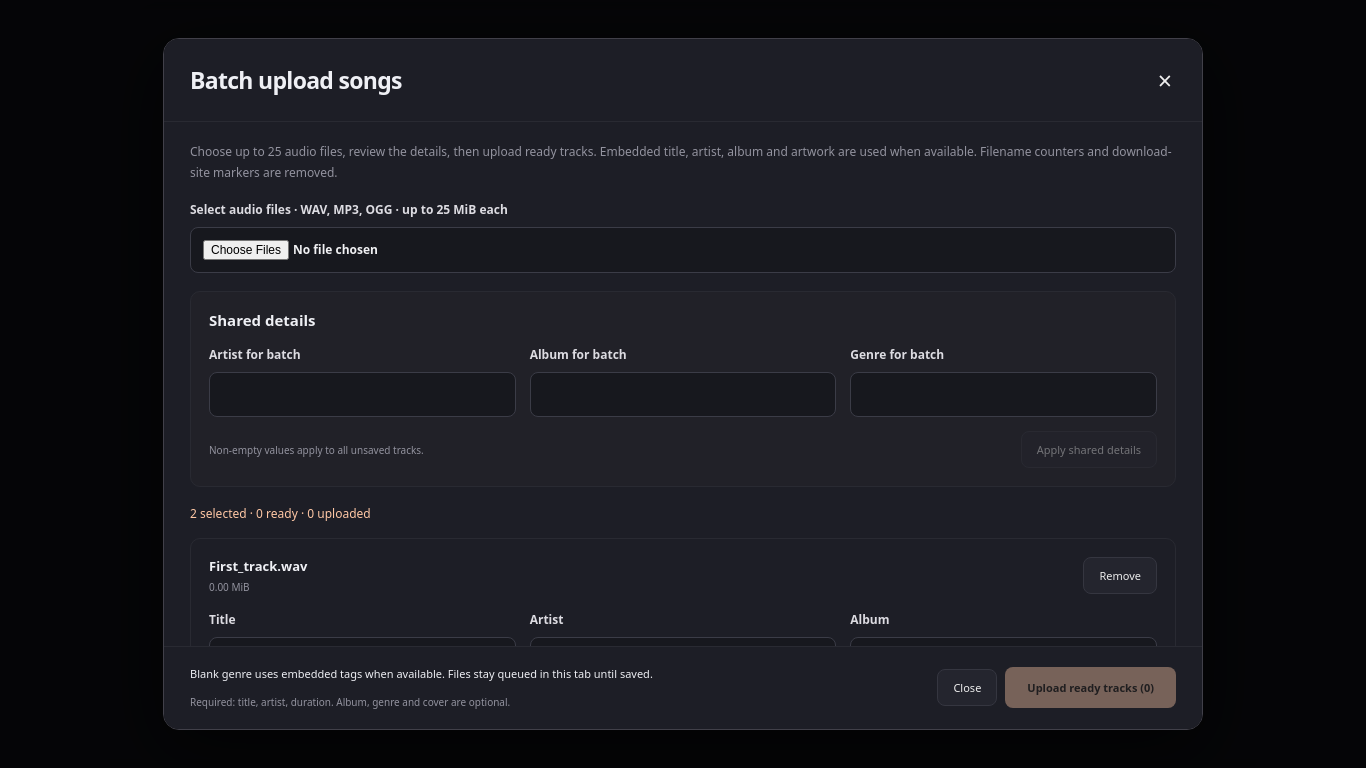
stops a batch after permission denial and blocks closing during an upload
Earlier steps of the test are not shown.
In the field labelled "Artist for batch": (362, 395) [209,372,516,417], type "Batch Artist"
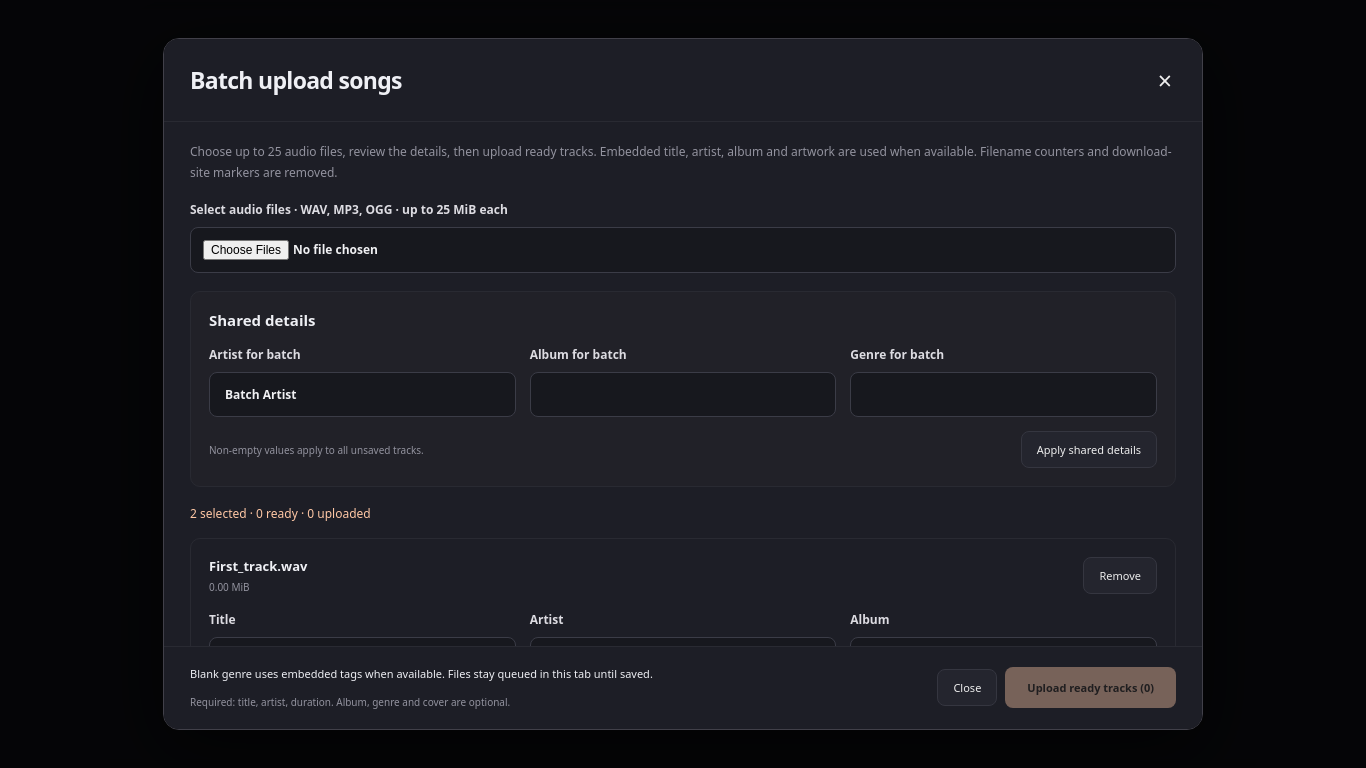
Click the button "Apply shared details": (1089, 450) [1021,431,1157,468]
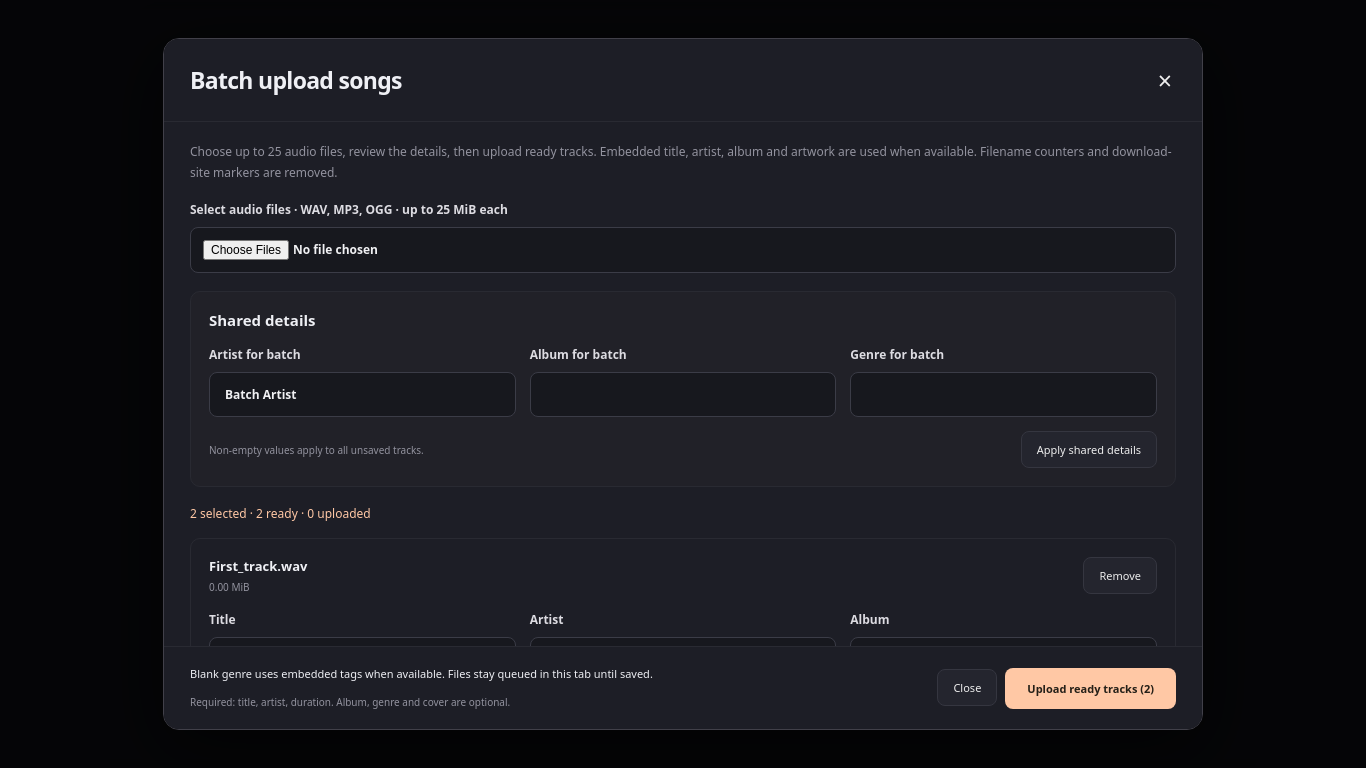
Click the button "Upload ready tracks (2)": (1091, 688) [1005,667,1176,708]
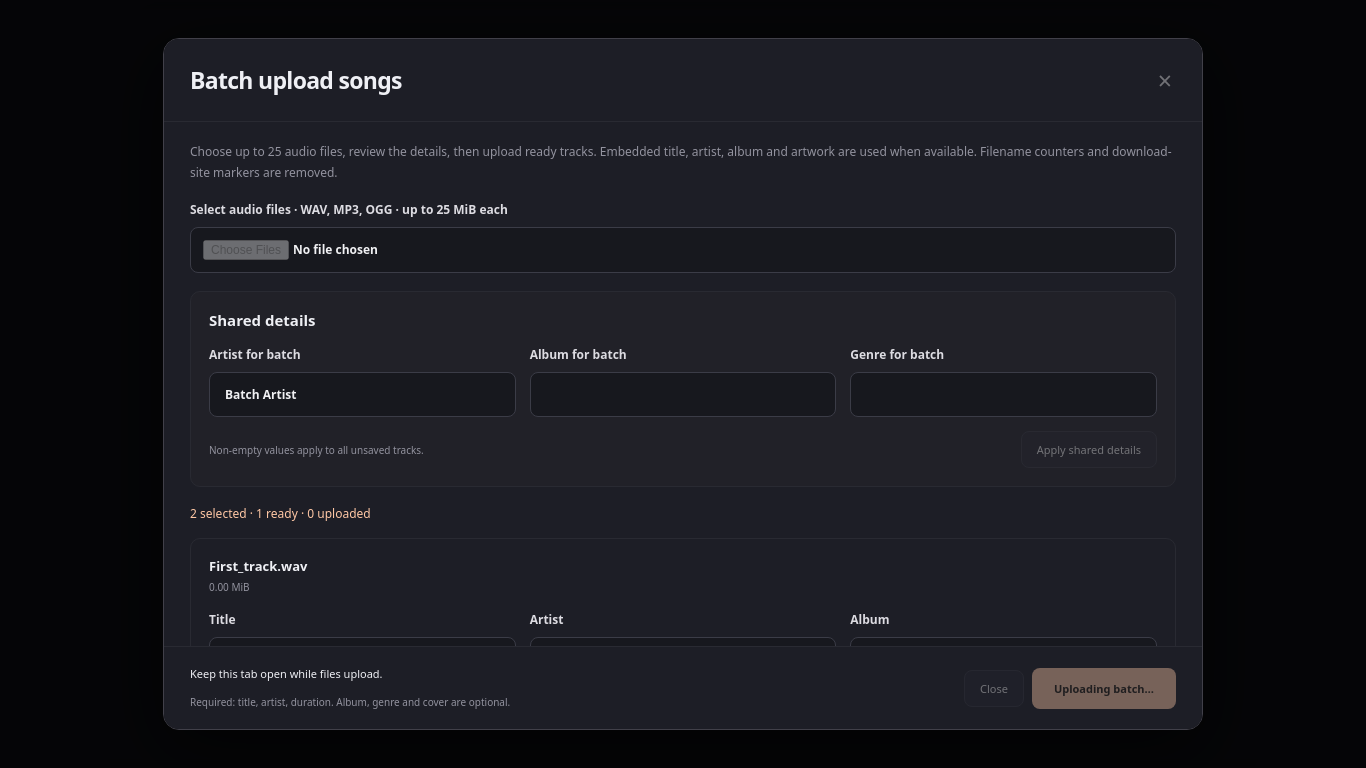
Check: the button named "Close dialog" is disabled, box [1154,59,1176,101]
Click the element that starts with "Batch upload songs": (82, 384) [0,0,1365,767]
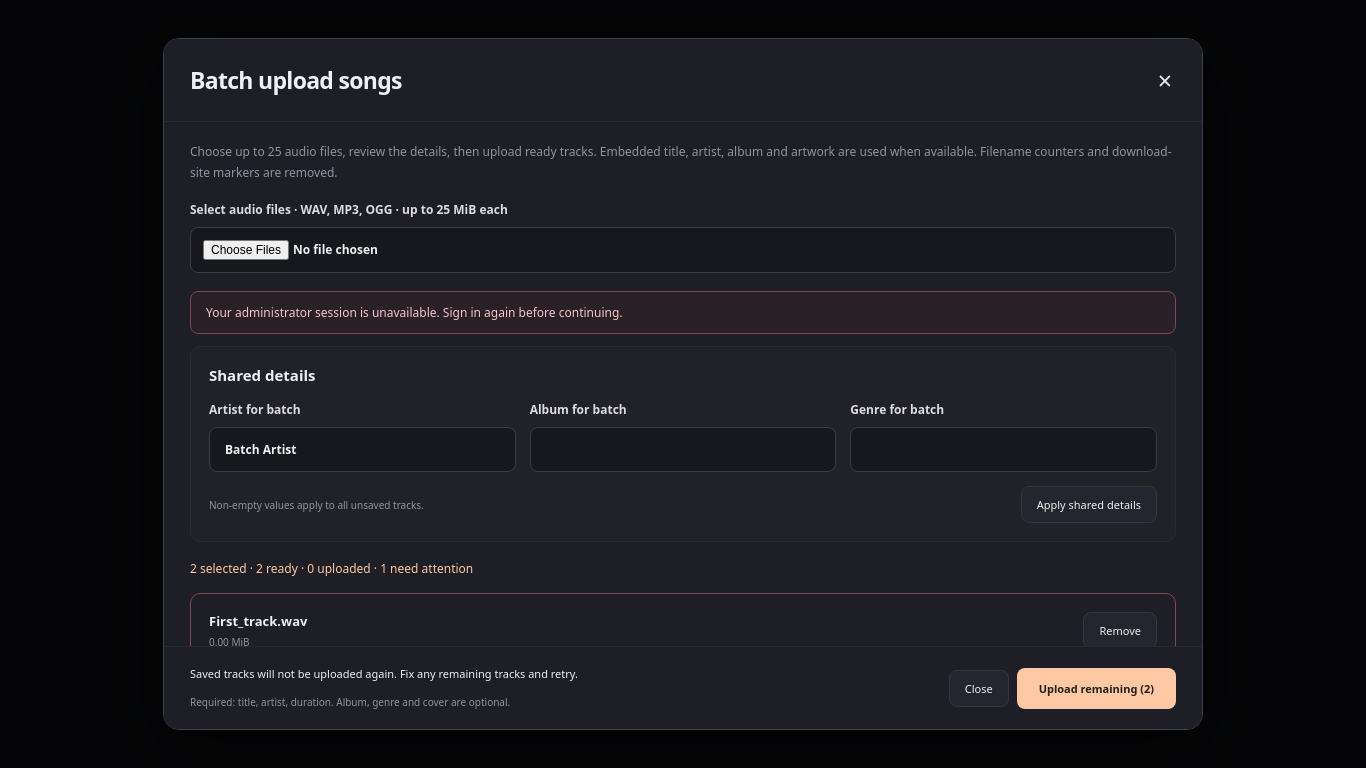
Check: the text "Your administrator session is unavailable. Sign in again before continuing." is shown, box [190,291,1176,334]
